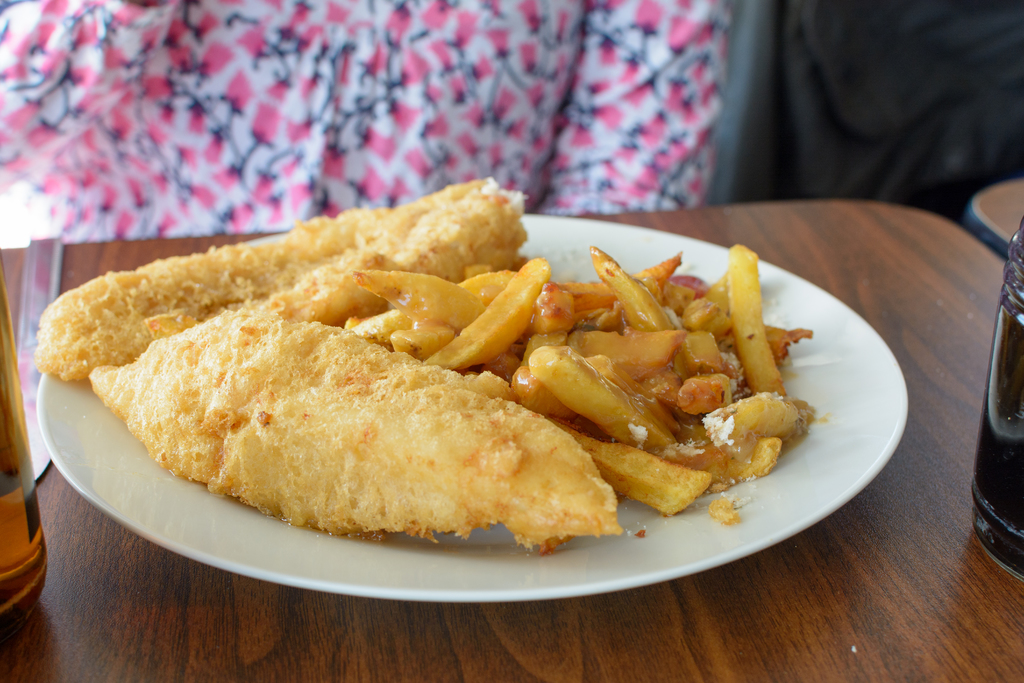French fries: (335, 215, 798, 512)
